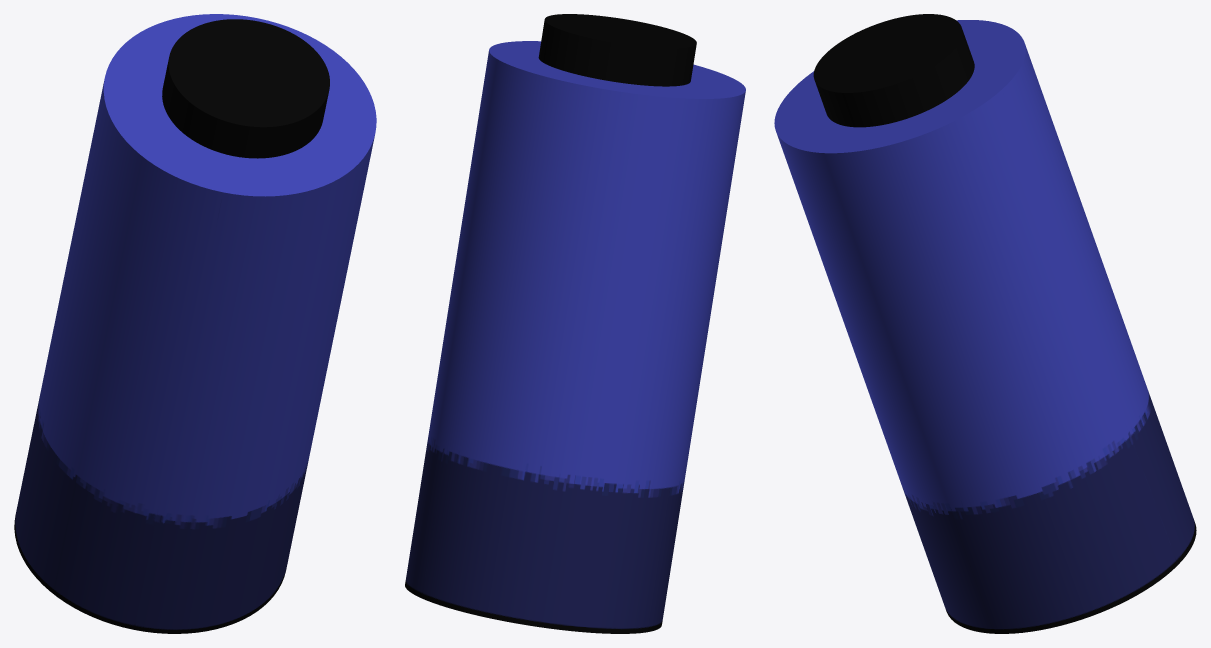
File: Battery.fbx
3 views of the same model, side by side, from view 1: azimuth 30°, elevation 25°; view 2: azimuth 150°, elevation 25°; view 3: azimuth 270°, elevation 25° (orthographic). The views are drawn at different scales.
Parts seen in each view (by area): view 1: root (×2); view 2: root (×2); view 3: root (×2).
Boxes of the visible parts, left/top/right/bottom form: root (×2): left=14, top=14, right=376, bottom=633; root (×2): left=405, top=14, right=745, bottom=633; root (×2): left=774, top=14, right=1196, bottom=633.
Size of the model in its own units: 0.0352 by 0.0844 by 0.0563.
2 materials, 2 textured.
